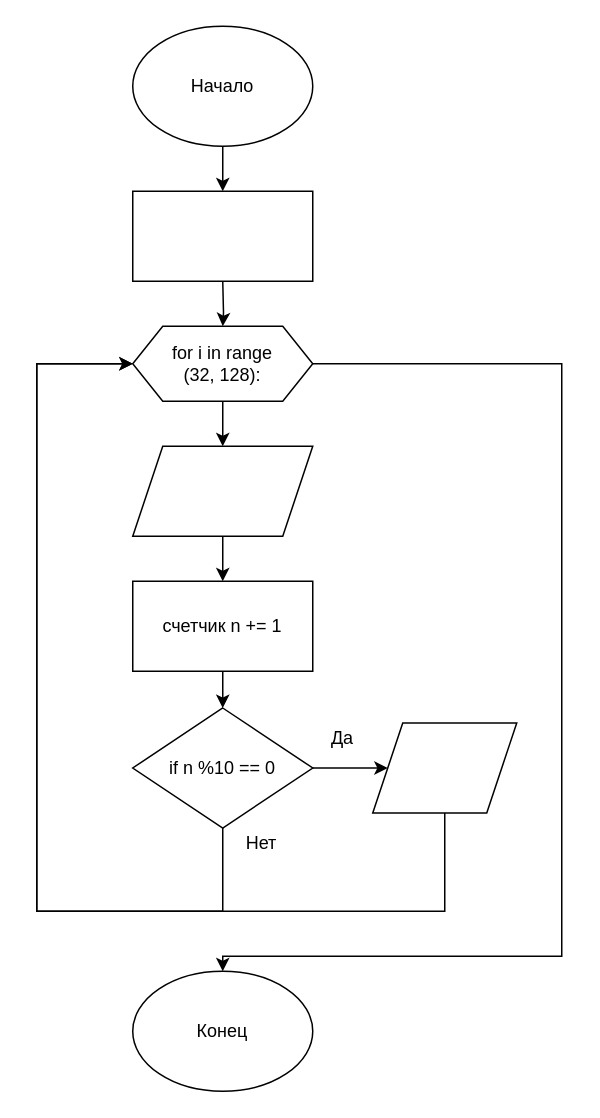
The diagram is 600 pixels wide and 1118 high, and some of its shapes have lost their labels. Here are the shapes that lost their labels. From the top down, the centre of each, then its label:
point 222,235: счетчик = 0
point 222,490: print i
point 444,767: новая строка
